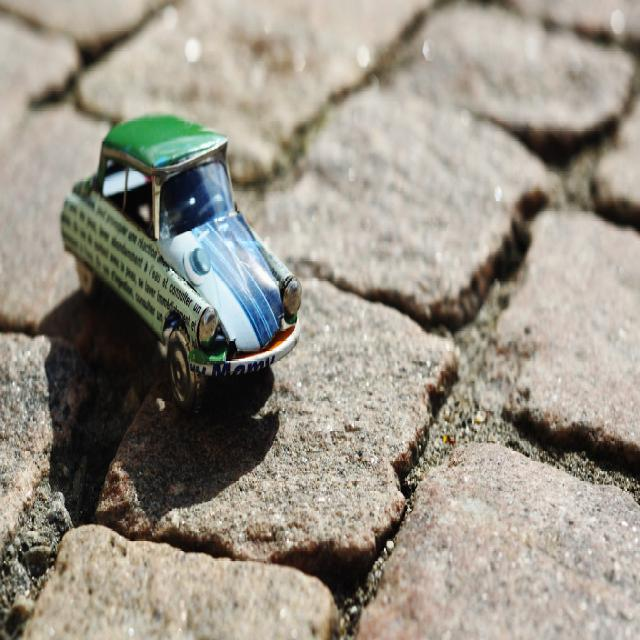car: (58, 108, 300, 404)
